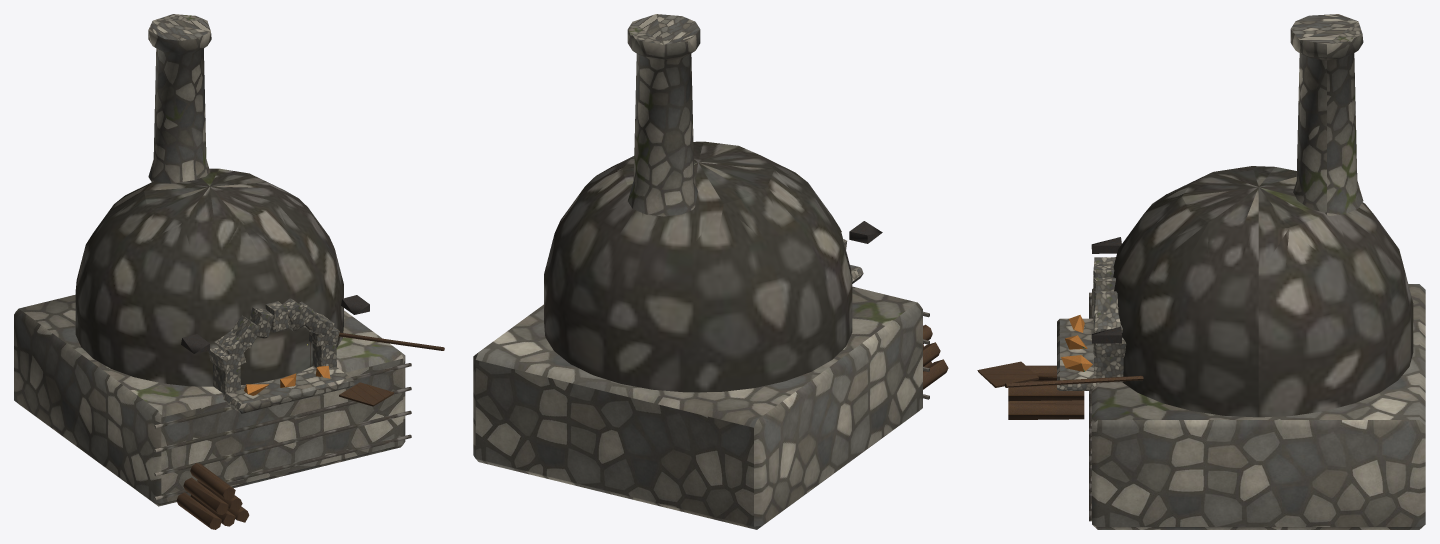
File: bakery_oven_lod1.glb
3 views of the same model, side by side, from view 1: azimuth 30°, elevation 25°; view 2: azimuth 150°, elevation 25°; view 3: azimuth 270°, elevation 25° (orthographic). The views are drawn at different scales.
Parts seen in each view (by area): view 1: bakery_oven; view 2: bakery_oven; view 3: bakery_oven.
Part boxes in pixels (left/top/right/bottom): bakery_oven: left=14, top=14, right=444, bottom=529; bakery_oven: left=473, top=14, right=948, bottom=529; bakery_oven: left=977, top=14, right=1425, bottom=529.
Size of the model in its own units: 2.24 by 3.15 by 2.95.
1 material, 1 textured.
